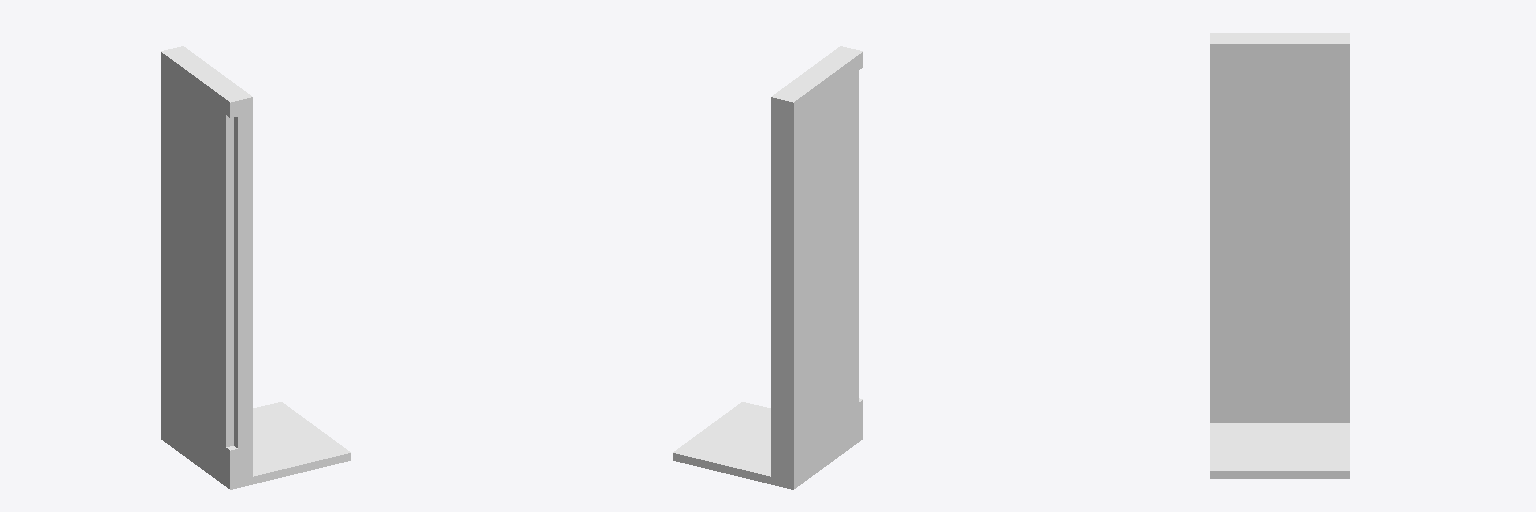
File: WallsSimpleV1CornerFront2.obj
The picture shows the model from 3 angles: view 1: azimuth 30°, elevation 25°; view 2: azimuth 150°, elevation 25°; view 3: azimuth 270°, elevation 25°; orthographic projection.
Parts seen in each view (by area): view 1: object 1; view 2: object 1; view 3: object 1.
Part boxes in pixels (x1,y1,x2,y2): object 1: (161, 46, 350, 489); object 1: (673, 46, 862, 489); object 1: (1210, 33, 1349, 478).
Bounding box in the file's own units: 1.6 × 4.9 × 1.6.